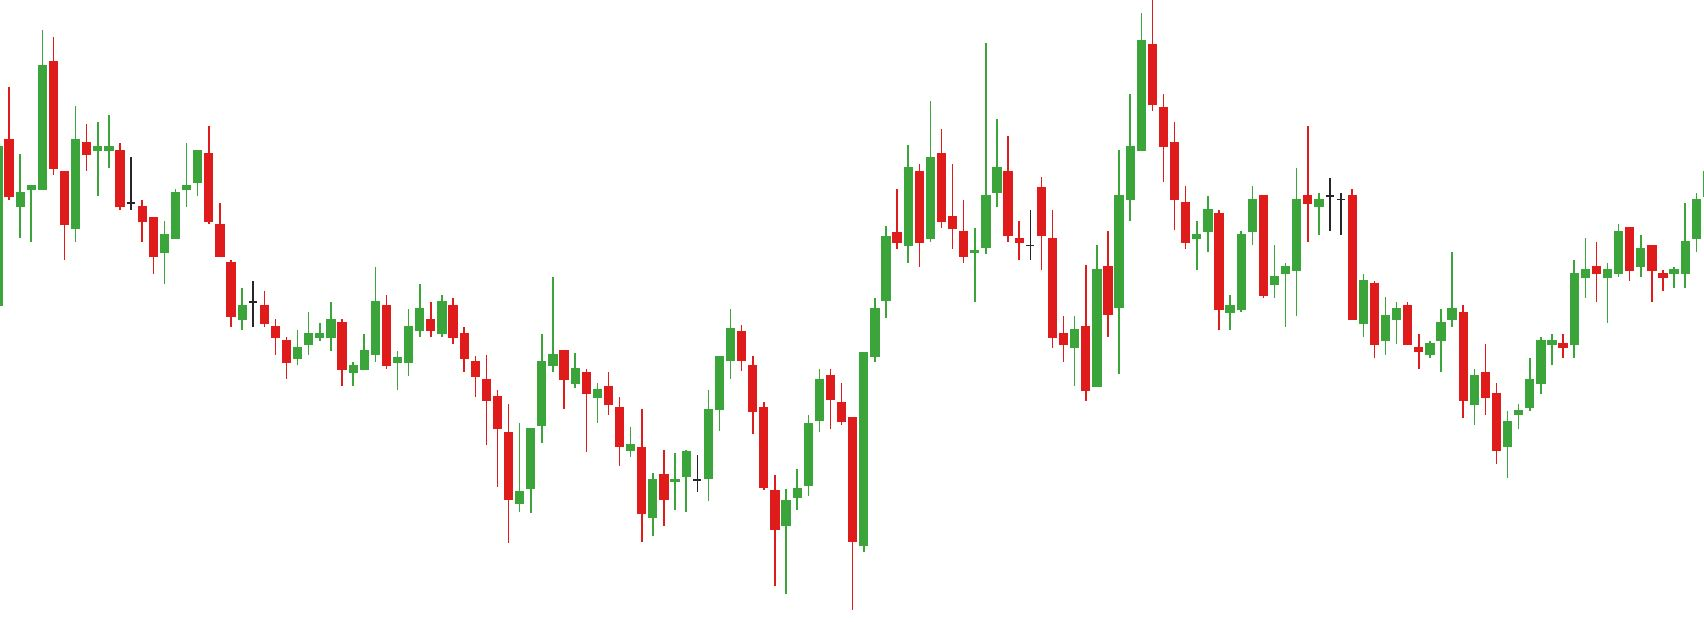buy: (956, 161, 1104, 422), (630, 405, 792, 613)
sell: (976, 5, 1160, 153), (435, 269, 571, 431), (127, 121, 215, 250), (1370, 247, 1459, 349)
